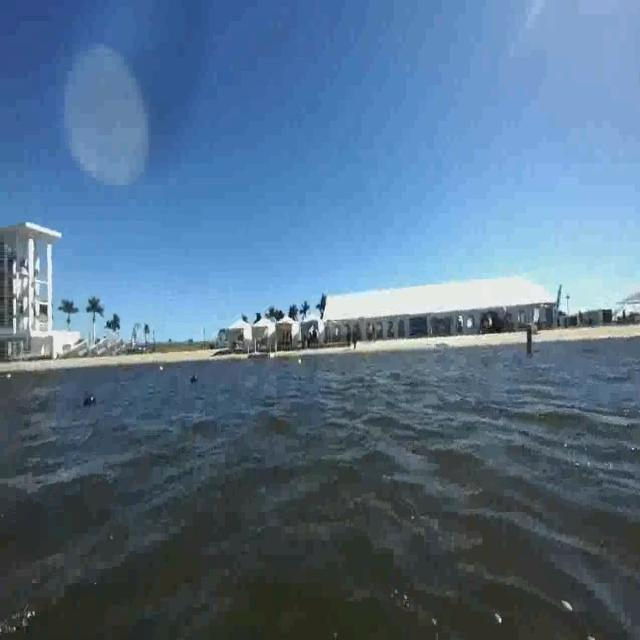black-buoy: (84, 392, 99, 410)
